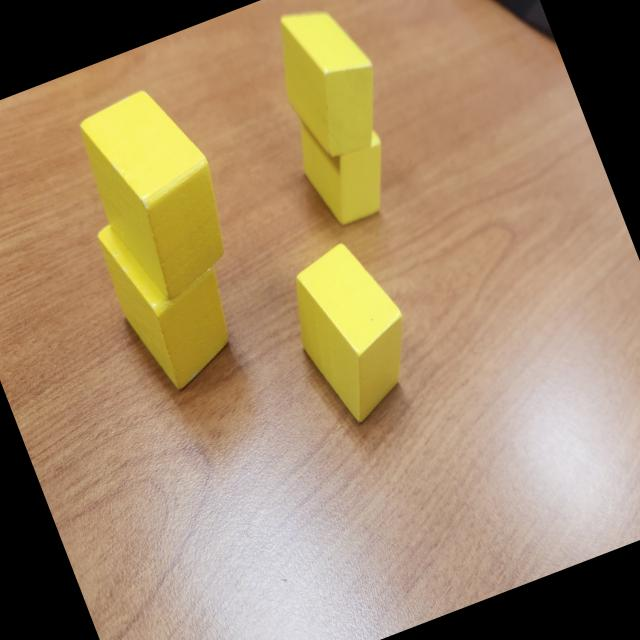yellow: (68, 76, 250, 310), (90, 186, 252, 400), (274, 233, 432, 431), (259, 0, 400, 169), (286, 96, 406, 234)
